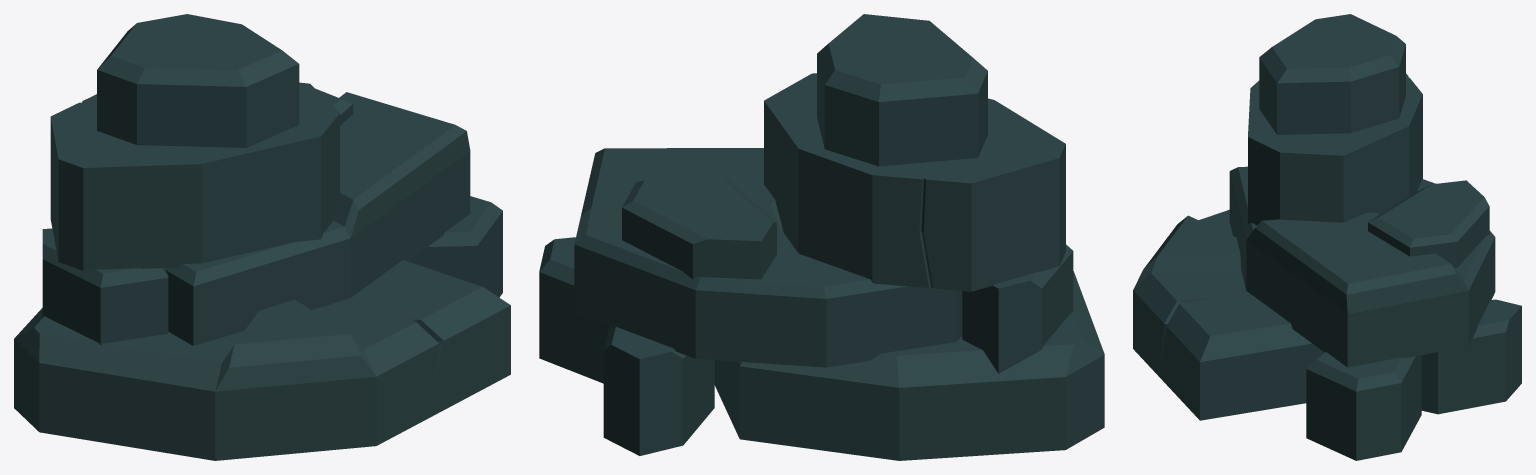
The model's file is lp_Rock_Type1_02_mesh_001_Circle_009.obj.
3 renders of one model, left to right at view 1: azimuth 30°, elevation 25°; view 2: azimuth 150°, elevation 25°; view 3: azimuth 270°, elevation 25°, orthographic. The views are drawn at different scales.
Parts seen in each view (by area): view 1: lp_Rock_Type1_02_mesh_001_Circle_009; view 2: lp_Rock_Type1_02_mesh_001_Circle_009; view 3: lp_Rock_Type1_02_mesh_001_Circle_009.
Boxes of the visible parts, bbox=[...] form: lp_Rock_Type1_02_mesh_001_Circle_009: bbox=[14, 14, 510, 460]; lp_Rock_Type1_02_mesh_001_Circle_009: bbox=[539, 14, 1104, 460]; lp_Rock_Type1_02_mesh_001_Circle_009: bbox=[1133, 14, 1521, 460].
Size of the model in its own units: 5.88 by 3.8 by 4.71.
